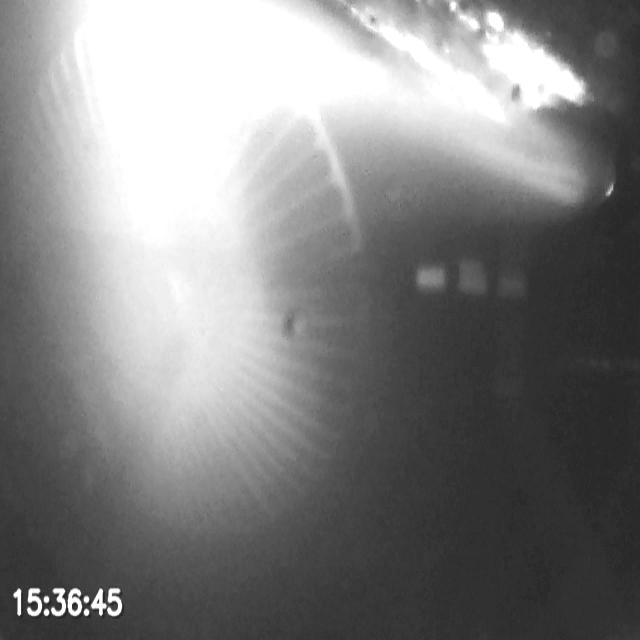white-dots: (413, 258, 533, 305)
